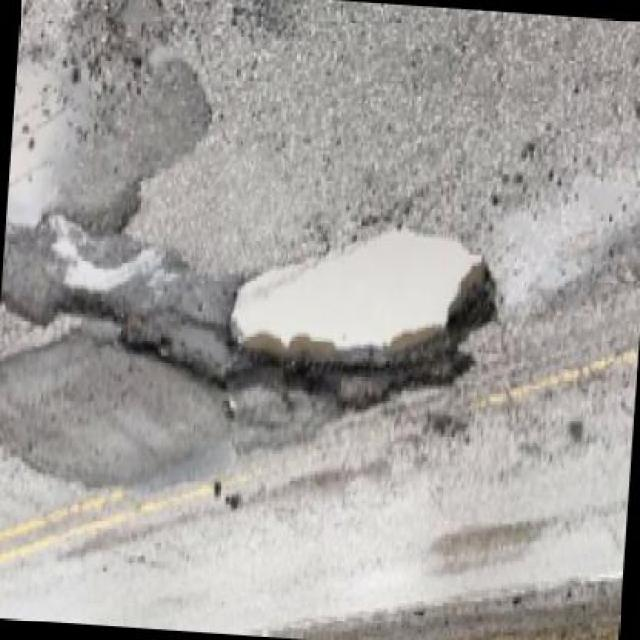pothole1: (215, 217, 503, 437), (0, 208, 134, 348)
